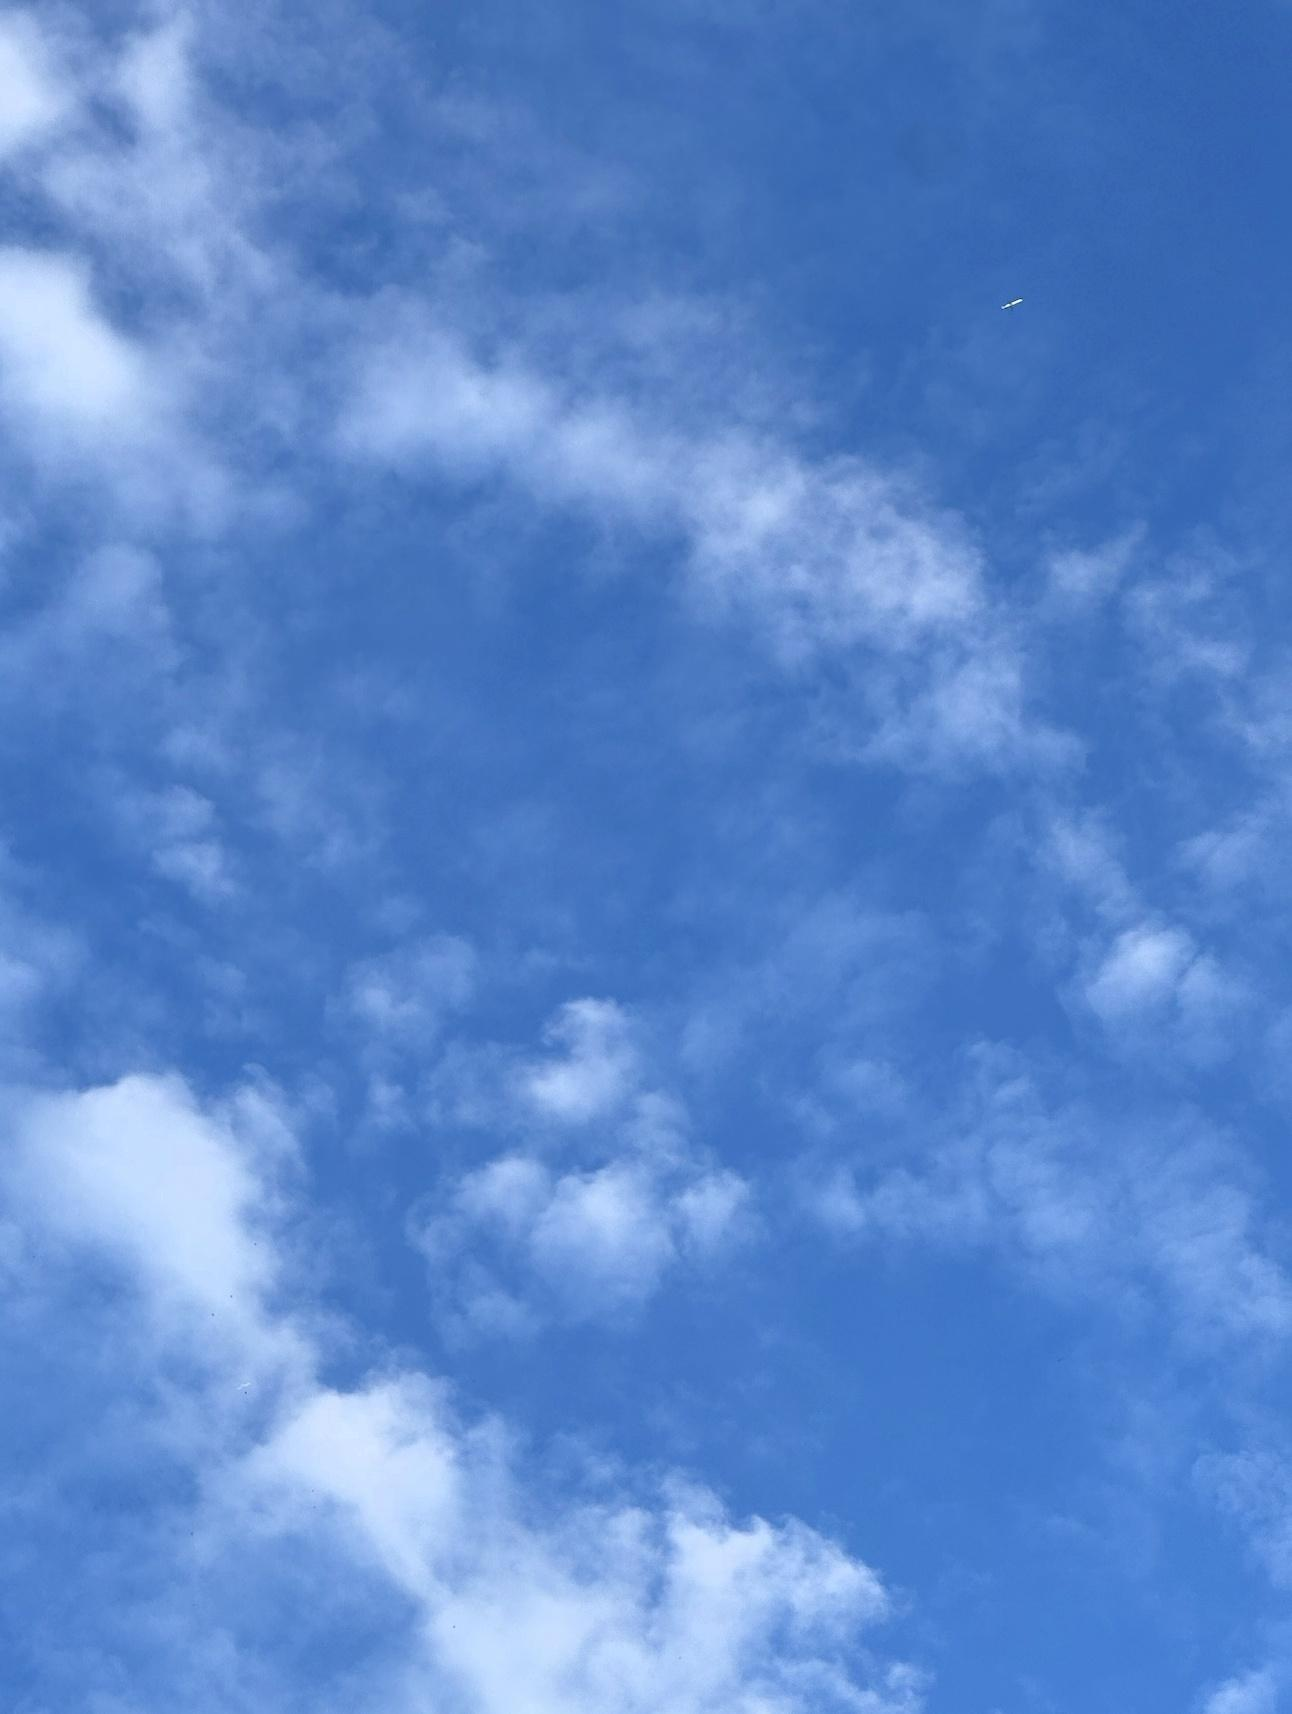Plane: (977, 290, 1046, 313)
